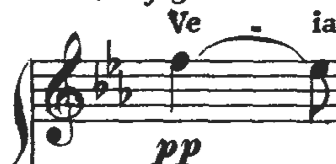flat: (91, 54, 112, 108), (115, 67, 136, 117), (102, 31, 123, 79)
treble_clef: (38, 25, 92, 151)
